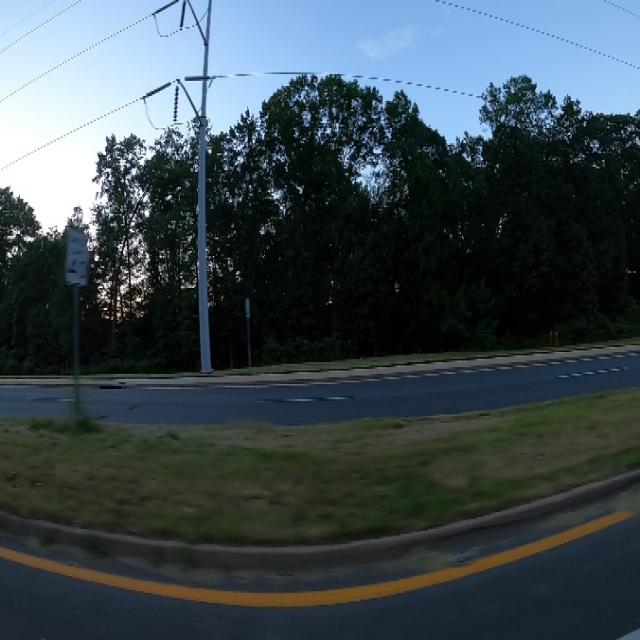Cars: (95, 378, 133, 395)
